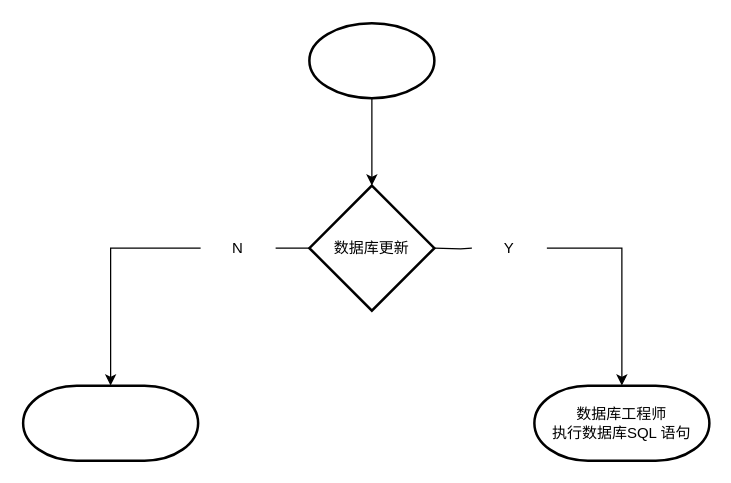
The diagram is 731 pixels wide and 483 high, and some of its shapes have lost their labels. The shapes that lost their labels are listed below. From the top down, each one's centre as x and y in pixels, then its label:
At point 371,60: "开发工程师 提出资源需求".
At point 110,422: "应用运维工程师 CI/CD 日常应用发版更新".
